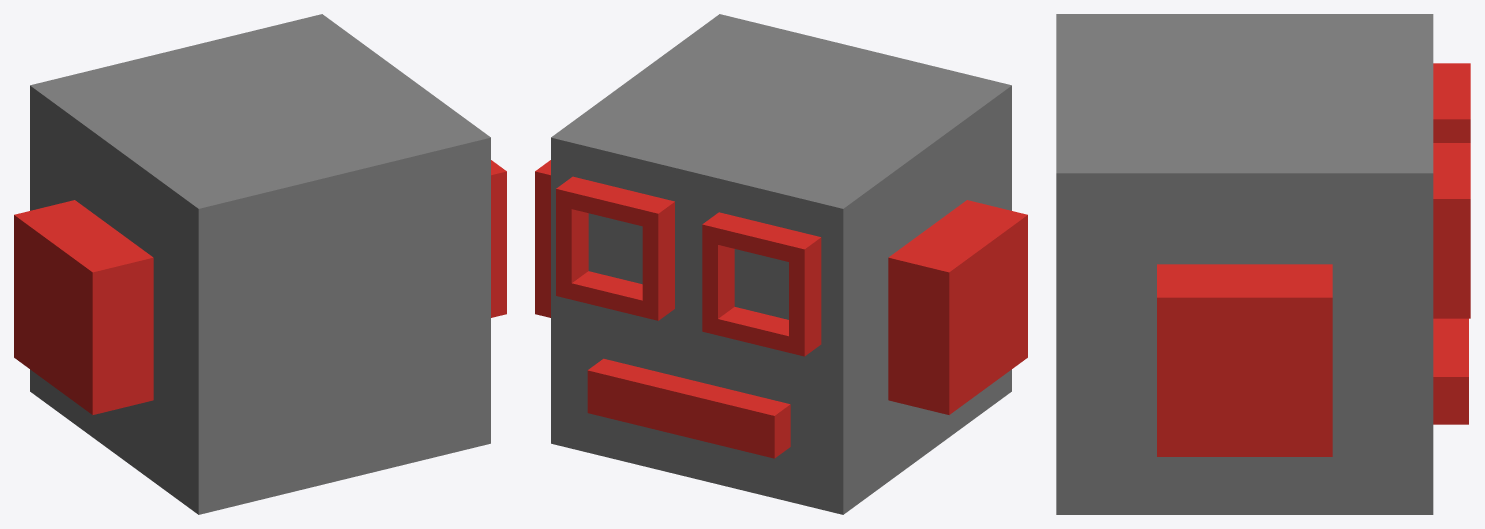
File: robot_01.glb
The picture shows the model from 3 angles, left to right: view 1: azimuth 30°, elevation 25°; view 2: azimuth 150°, elevation 25°; view 3: azimuth 270°, elevation 25°; orthographic projection. The views are drawn at different scales.
Parts seen in each view (by area): view 1: Cube; view 2: Cube; view 3: Cube.
Boxes of the visible parts, left/top/right/bottom form: Cube: left=14, top=14, right=506, bottom=514; Cube: left=535, top=14, right=1027, bottom=514; Cube: left=1056, top=14, right=1470, bottom=514.
Size of the model in its own units: 0.9408 by 0.6642 by 0.73.
